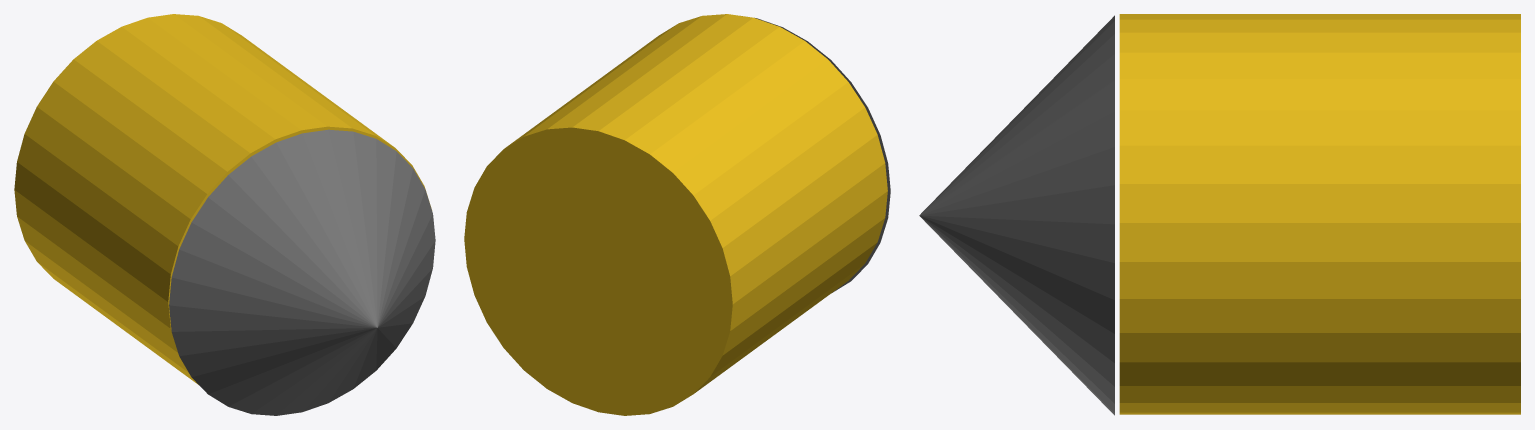
The model's file is Rocket.fbx.
3 views of the same model, side by side, from view 1: azimuth 30°, elevation 25°; view 2: azimuth 150°, elevation 25°; view 3: azimuth 270°, elevation 25° (orthographic). The views are drawn at different scales.
Visible parts, largest first — view 1: Cylinder, Cone; view 2: Cylinder, Cone; view 3: Cylinder, Cone.
Part boxes in pixels (x1,y1,x2,y2): Cylinder: [14, 14, 432, 384]; Cone: [169, 129, 435, 415]; Cylinder: [464, 14, 887, 415]; Cone: [754, 17, 890, 292]; Cylinder: [1119, 14, 1520, 414]; Cone: [919, 15, 1114, 415].
Size of the model in its own units: 201 by 201 by 300.
